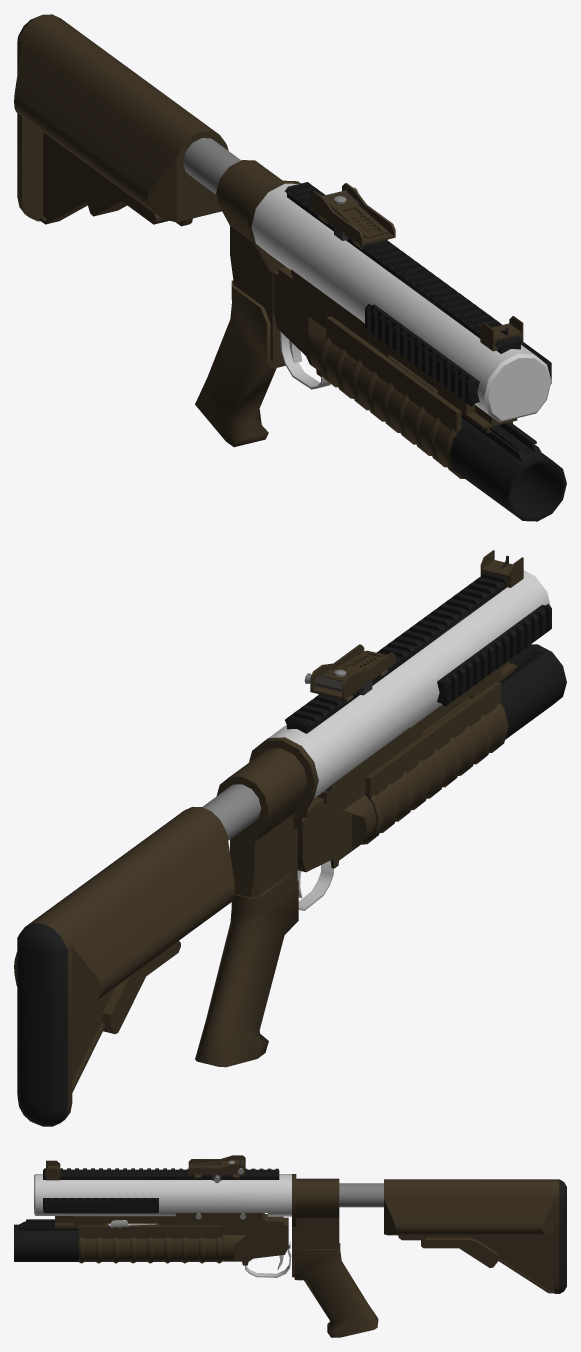
Rendered from DemoFacility_GrenadeLauncher.FBX.
3 views of the same model, one above another, from view 1: azimuth 30°, elevation 25°; view 2: azimuth 150°, elevation 25°; view 3: azimuth 270°, elevation 25° (orthographic). The views are drawn at different scales.
Parts seen in each view (by area): view 1: DFGL_GrenadeLauncher, DFGL_Barrel, DFGL_IronSights; view 2: DFGL_GrenadeLauncher, DFGL_Barrel, DFGL_IronSights; view 3: DFGL_GrenadeLauncher, DFGL_Barrel, DFGL_IronSights.
Boxes of the visible parts, x1,y1,x2,y2 form: DFGL_GrenadeLauncher: [14, 14, 551, 447]; DFGL_Barrel: [319, 316, 566, 521]; DFGL_IronSights: [310, 183, 523, 351]; DFGL_GrenadeLauncher: [14, 570, 551, 1126]; DFGL_Barrel: [361, 644, 566, 844]; DFGL_IronSights: [304, 550, 523, 703]; DFGL_GrenadeLauncher: [34, 1168, 566, 1337]; DFGL_Barrel: [14, 1219, 222, 1263]; DFGL_IronSights: [46, 1155, 245, 1183].
Bounding box in the file's own units: 7.01 × 23.9 × 68.98.
